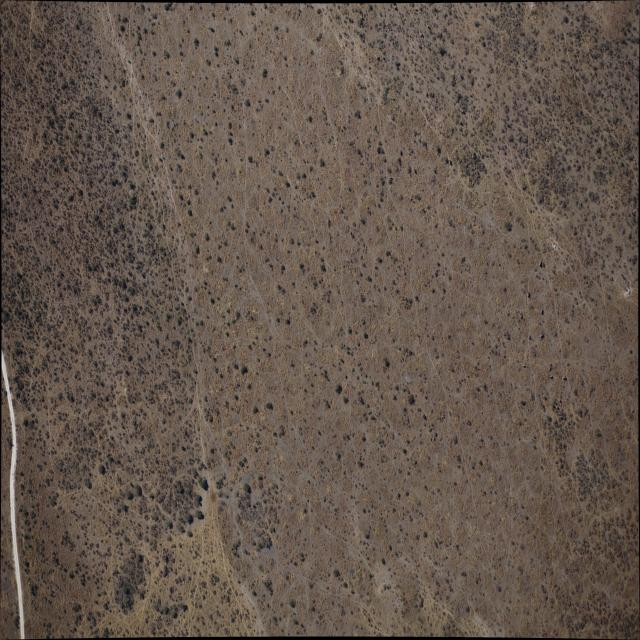elephant: (392, 4, 397, 10), (556, 396, 560, 402), (425, 23, 429, 27), (540, 334, 544, 338), (554, 404, 558, 408), (527, 292, 530, 297), (419, 32, 422, 36), (374, 55, 377, 59), (381, 55, 384, 59), (409, 194, 411, 200), (460, 109, 464, 112), (472, 152, 474, 158), (448, 158, 450, 164), (412, 168, 415, 172), (399, 150, 401, 156), (419, 388, 422, 392), (431, 408, 433, 414), (540, 308, 542, 314), (562, 376, 566, 379), (548, 375, 552, 378), (528, 335, 531, 339), (539, 261, 541, 266), (472, 166, 475, 169), (359, 16, 363, 18), (411, 200, 415, 202), (388, 176, 392, 178), (433, 437, 435, 441), (542, 262, 544, 266), (632, 409, 634, 413), (377, 55, 379, 58), (425, 93, 427, 96), (432, 93, 434, 96), (440, 417, 442, 420), (549, 367, 550, 373), (522, 365, 525, 367), (602, 364, 605, 366), (408, 34, 410, 36), (465, 164, 467, 166), (425, 396, 427, 398), (442, 416, 446, 417), (430, 437, 431, 441), (606, 379, 608, 381), (350, 232, 351, 235), (424, 395, 425, 398)
